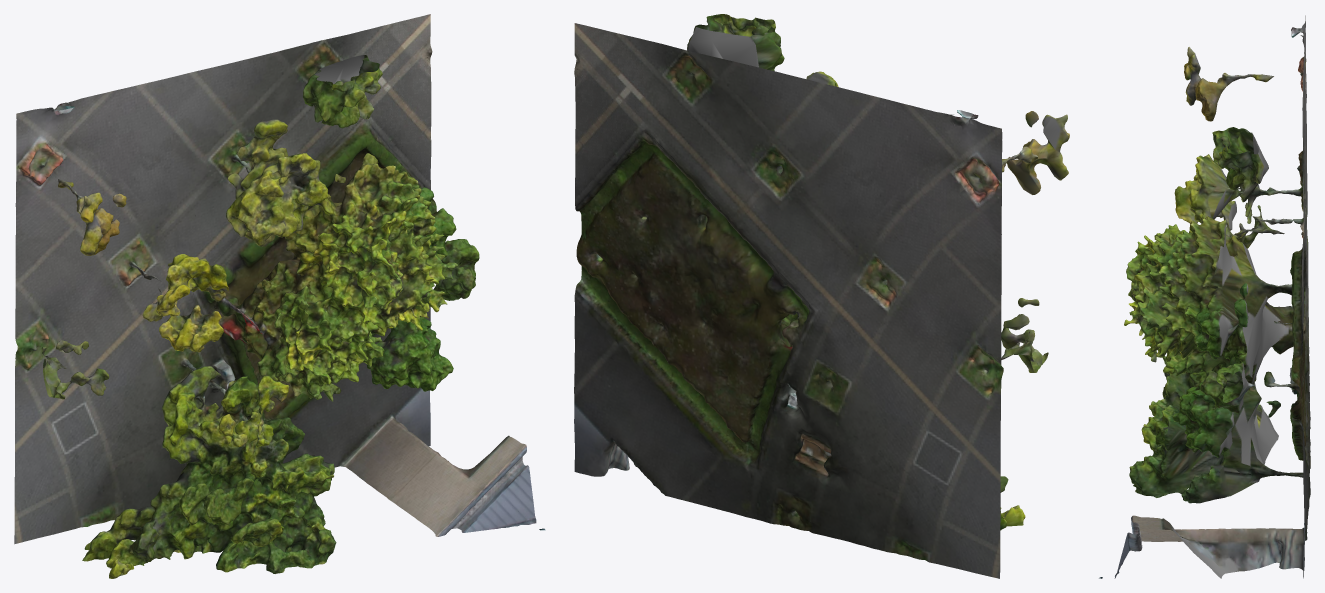
The model's file is Tile_+012_+022.fbx.
3 renders of one model, left to right at view 1: azimuth 30°, elevation 25°; view 2: azimuth 150°, elevation 25°; view 3: azimuth 270°, elevation 25°, orthographic. The views are drawn at different scales.
Parts seen in each view (by area): view 1: DefaultName; view 2: DefaultName; view 3: DefaultName.
Part boxes in pixels (bbox=[...]): DefaultName: bbox=[14, 14, 545, 578]; DefaultName: bbox=[574, 14, 1069, 578]; DefaultName: bbox=[1099, 15, 1310, 578].
Size of the model in its own units: 22.54 by 22.54 by 11.26.
